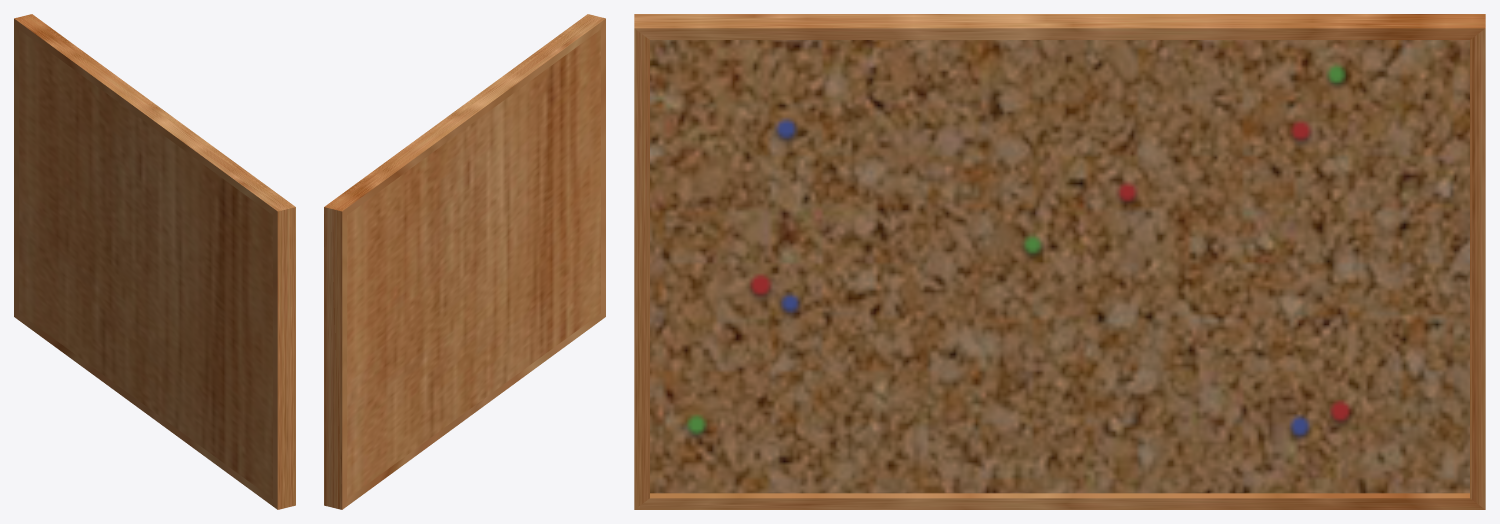
The model's file is cork_board001.fbx.
The picture shows the model from 3 angles, left to right: view 1: azimuth 30°, elevation 25°; view 2: azimuth 150°, elevation 25°; view 3: azimuth 270°, elevation 25°; orthographic projection. The views are drawn at different scales.
Visible parts, largest first — view 1: Cube.001; view 2: Cube.001; view 3: Cube, Cube.001.
Part boxes in pixels (<box>): Cube.001: <box>14,14,295,509</box>; Cube.001: <box>324,14,605,509</box>; Cube: <box>650,40,1469,493</box>; Cube.001: <box>634,14,1485,509</box>.
Bounding box in the file's own units: 13.39 × 210 × 337.
Materials: 2 (2 with a texture image).
